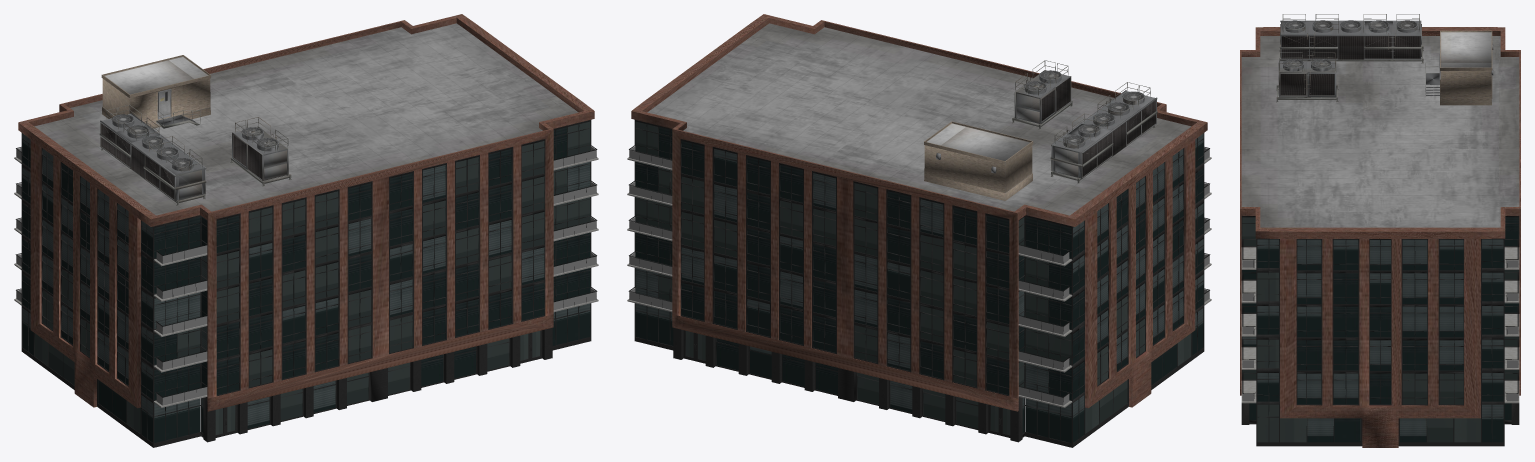
Rendered from mid-2.glb.
The picture shows the model from 3 angles, left to right: view 1: azimuth 30°, elevation 25°; view 2: azimuth 150°, elevation 25°; view 3: azimuth 270°, elevation 25°; orthographic projection. The views are drawn at different scales.
Parts seen in each view (by area): view 1: Mid_Rise_Building_2; view 2: Mid_Rise_Building_2; view 3: Mid_Rise_Building_2.
Boxes of the visible parts, x1,y1,x2,y2 form: Mid_Rise_Building_2: (14,14,598,447); Mid_Rise_Building_2: (627,14,1211,447); Mid_Rise_Building_2: (1240,14,1520,447).
Size of the model in its own units: 34.64 by 19.68 by 20.1.
3 materials, 3 textured.
